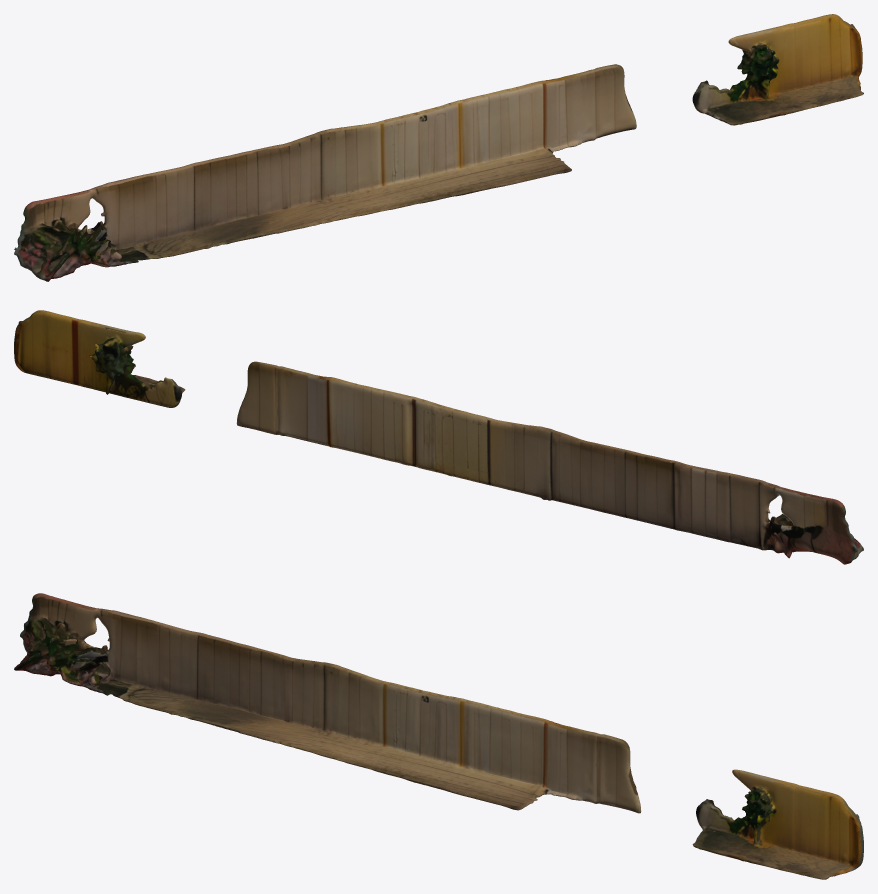
The model's file is terrain_1760701595651-r6oh468.glb.
3 renders of one model, top to bottom at view 1: azimuth 30°, elevation 25°; view 2: azimuth 150°, elevation 25°; view 3: azimuth 330°, elevation 25°, orthographic.
Visible parts, largest first — view 1: tripo_node_3d8a1723-eef6-4da9-93bd-037804f02c7e; view 2: tripo_node_3d8a1723-eef6-4da9-93bd-037804f02c7e; view 3: tripo_node_3d8a1723-eef6-4da9-93bd-037804f02c7e.
Part boxes in pixels (box(x1,y1,x2,y2)): tripo_node_3d8a1723-eef6-4da9-93bd-037804f02c7e: box(14, 14, 863, 281); tripo_node_3d8a1723-eef6-4da9-93bd-037804f02c7e: box(14, 310, 863, 564); tripo_node_3d8a1723-eef6-4da9-93bd-037804f02c7e: box(14, 593, 863, 879).
Bounding box in the file's own units: 1 × 0.0846 × 0.0833.
Materials: 1 (1 with a texture image).
